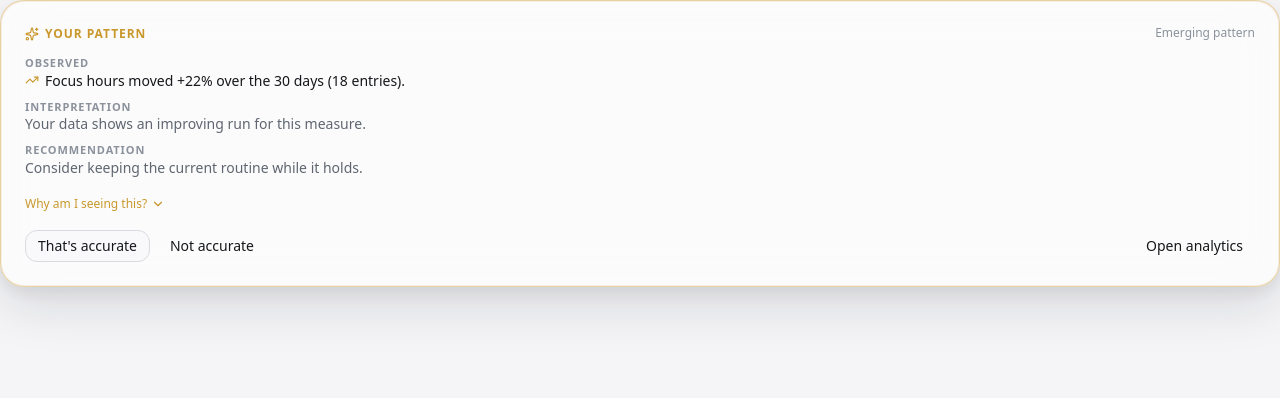
Test case: PersonalPatternCard › explains its provenance behind 'Why am I seeing this?'
Click the button "Why am I seeing this?" at x=95, y=204, box [25,196,165,212]
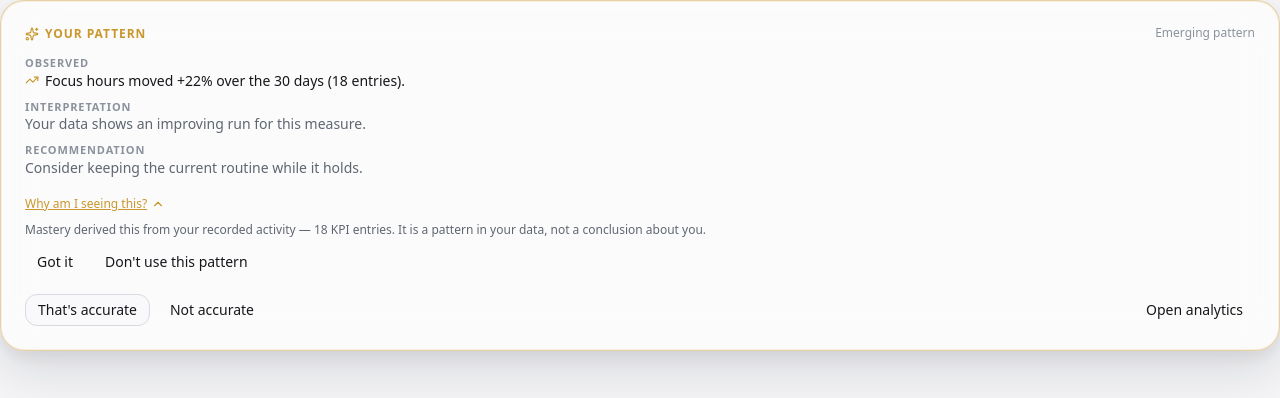
expect the button "Why am I seeing this?" is expanded: met, box [25,196,165,212]
expect the text "derived this from your recorded activity" is shown: met, box [25,221,314,238]
